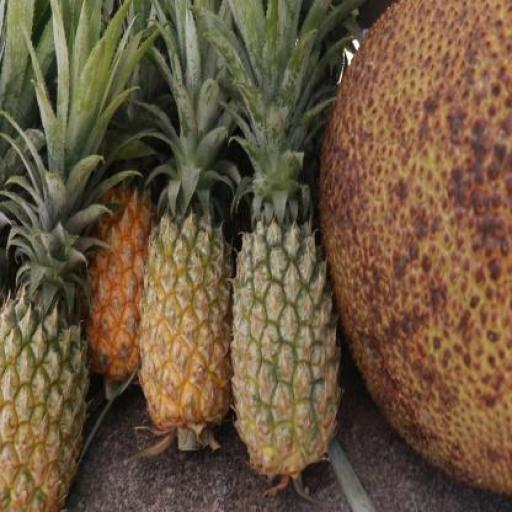------------------------------: (0, 302, 90, 512)
Pineapple - v8 v1: (140, 212, 235, 432), (84, 177, 160, 383)
